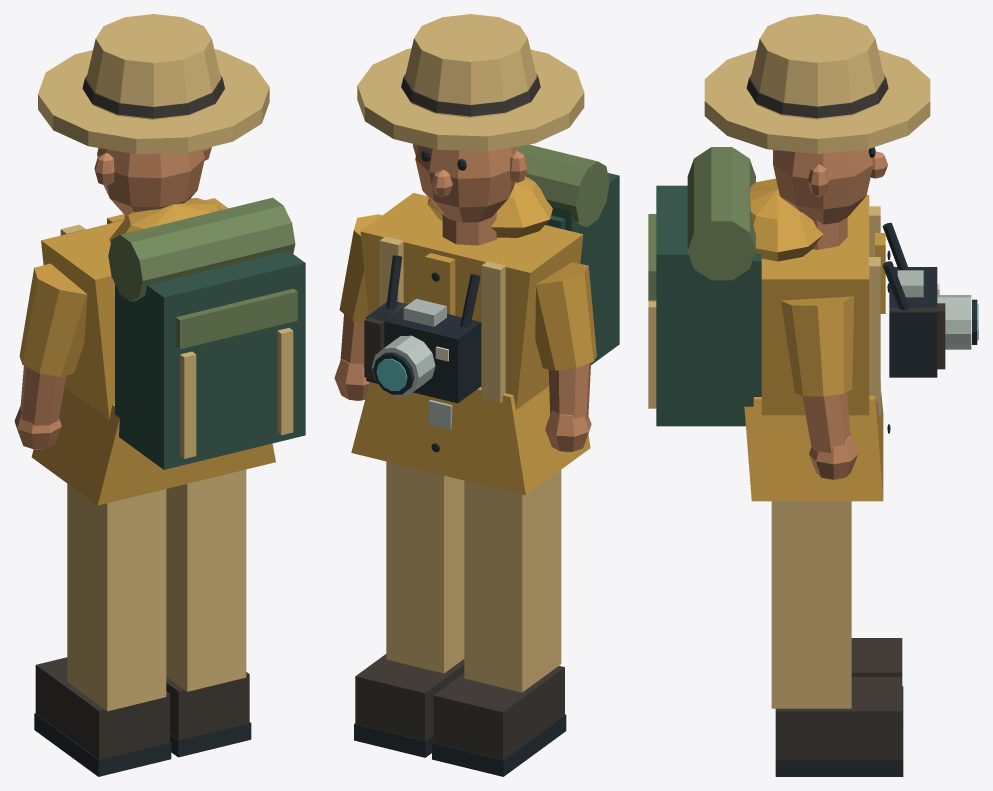
The model's file is researcher-raincoat.glb.
3 views of the same model, side by side, from view 1: azimuth 30°, elevation 25°; view 2: azimuth 150°, elevation 25°; view 3: azimuth 270°, elevation 25° (orthographic). The views are drawn at different scales.
Parts seen in each view (by area): view 1: RainGear, LegL, Head, LegR, Body, ArmL; view 2: Head, LegL, Body, RainGear, LegR, Camera, ArmL, ArmR; view 3: RainGear, Head, LegR, Body, ArmR, Camera, LegL.
Boxes of the visible parts, x1,y1,x2,y2 form: RainGear: (31, 198, 305, 505); LegL: (34, 484, 171, 776); Head: (38, 14, 269, 218); LegR: (166, 469, 251, 757); Body: (41, 197, 295, 419); ArmL: (14, 263, 87, 449); Head: (357, 14, 584, 245); LegL: (432, 470, 566, 776); Body: (360, 144, 609, 429); RainGear: (351, 173, 619, 495); LegR: (354, 461, 464, 757); Camera: (364, 298, 481, 403); ArmL: (535, 262, 596, 452); ArmR: (334, 214, 381, 400); RainGear: (648, 178, 890, 501); Head: (704, 14, 930, 249); LegR: (771, 501, 903, 776); Body: (687, 147, 909, 416); ArmR: (781, 296, 857, 479); Camera: (889, 267, 978, 377); LegL: (775, 638, 903, 724).
Bounding box in the file's own units: 0.742 × 1.94 × 0.8285.
